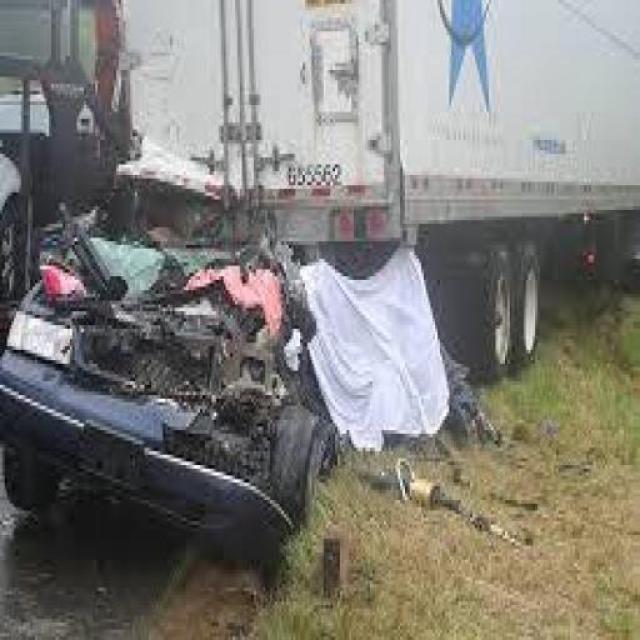crush: (24, 240, 315, 528)
